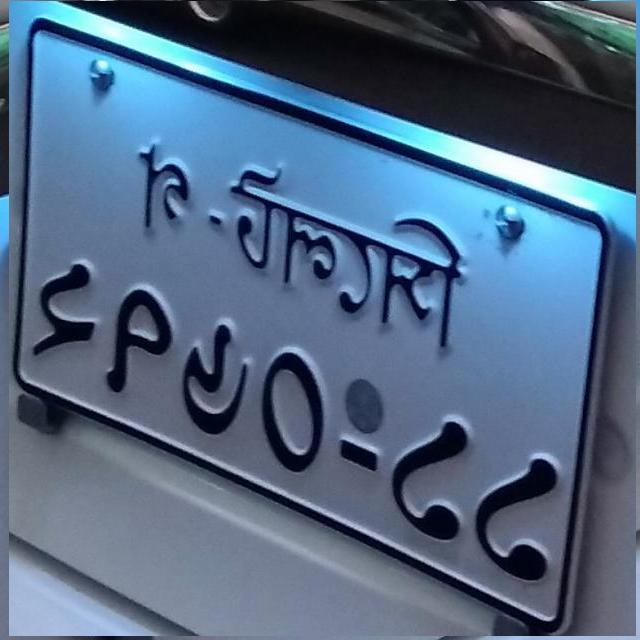numberplate: (9, 1, 636, 636)
